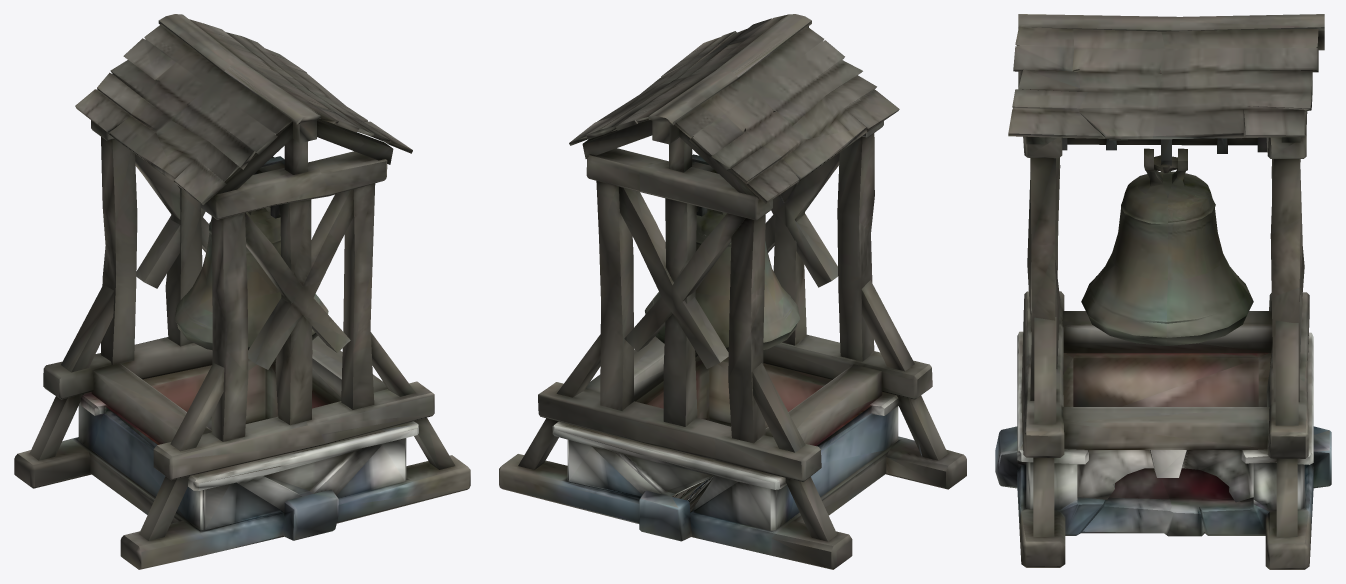
File: obj_bell_frame.glb
3 views of the same model, side by side, from view 1: azimuth 30°, elevation 25°; view 2: azimuth 150°, elevation 25°; view 3: azimuth 270°, elevation 25° (orthographic). The views are drawn at different scales.
Visible parts, largest first — view 1: model; view 2: model; view 3: model.
Part boxes in pixels (x1,y1,x2,y2): model: (14, 14, 470, 569); model: (499, 14, 966, 569); model: (995, 14, 1331, 569).
Bounding box in the file's own units: 0.8513 × 1 × 0.6595.
1 material, 1 textured.
